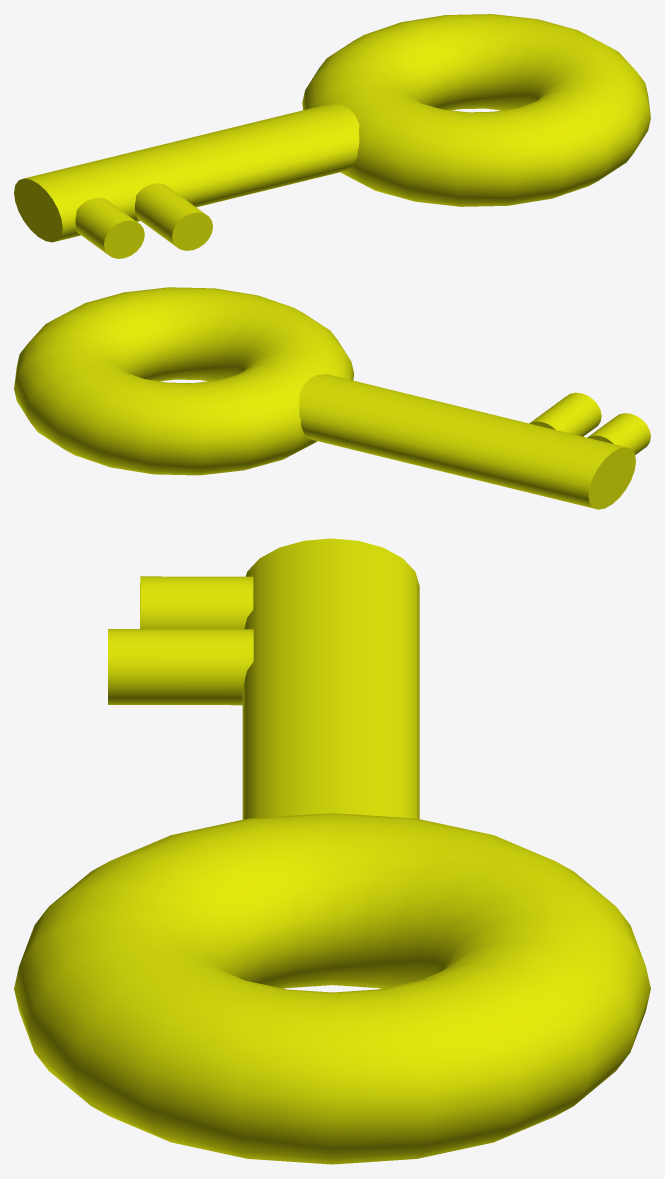
File: key.fbx
3 views of the same model, one above another, from view 1: azimuth 30°, elevation 25°; view 2: azimuth 150°, elevation 25°; view 3: azimuth 270°, elevation 25° (orthographic). The views are drawn at different scales.
Visible parts, largest first — view 1: pTorus2; view 2: pTorus2; view 3: pTorus2.
Part boxes in pixels (x1,y1,x2,y2): pTorus2: (14,14,650,258); pTorus2: (14,287,650,509); pTorus2: (14,538,650,1164).
Bounding box in the file's own units: 1.44 × 0.1889 × 0.7392.
